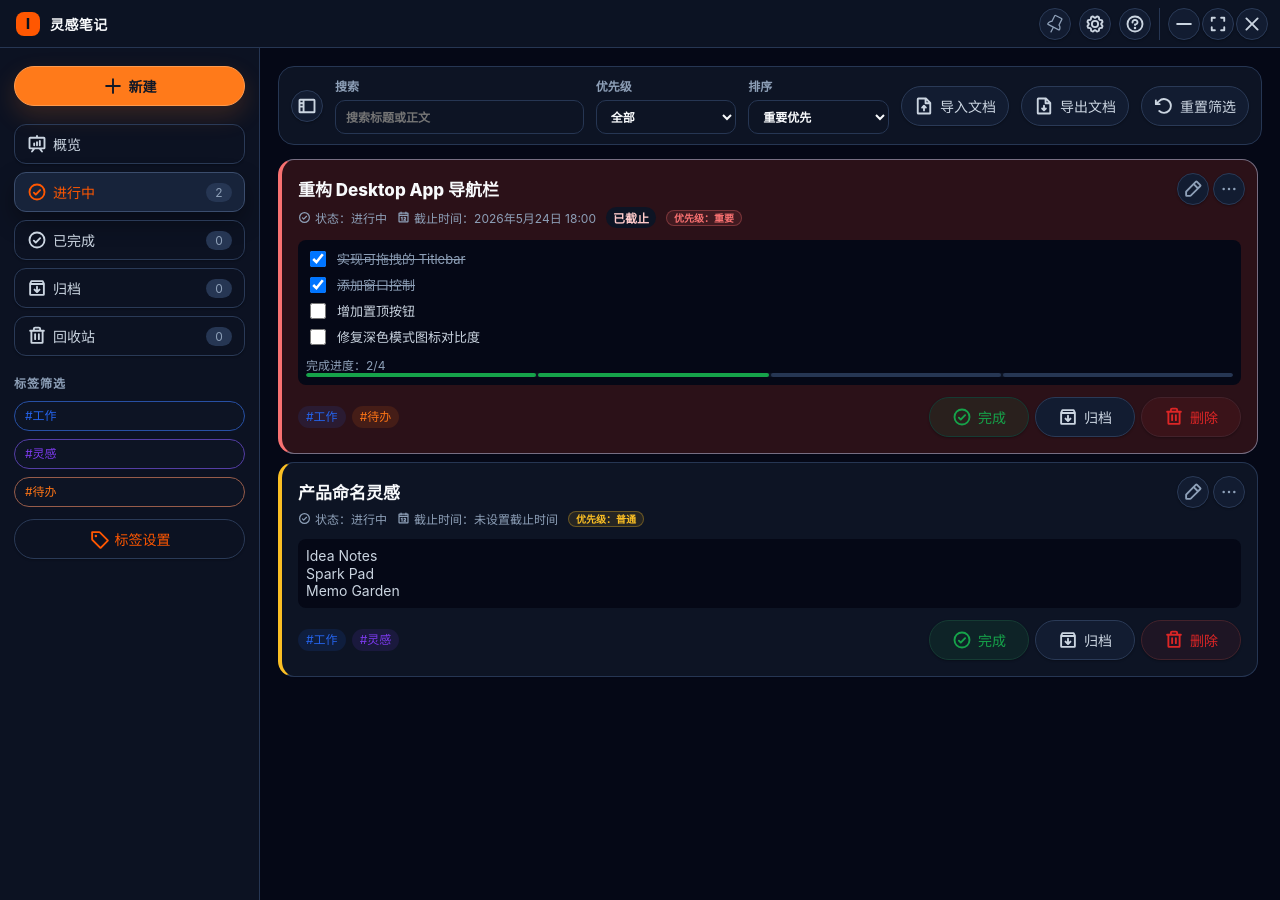
App settings reset › 设置重置系统状态变更成功但本地保存失败时回滚系统状态
Click the button named "设置" at [1095, 24], box [1079,8,1111,40]
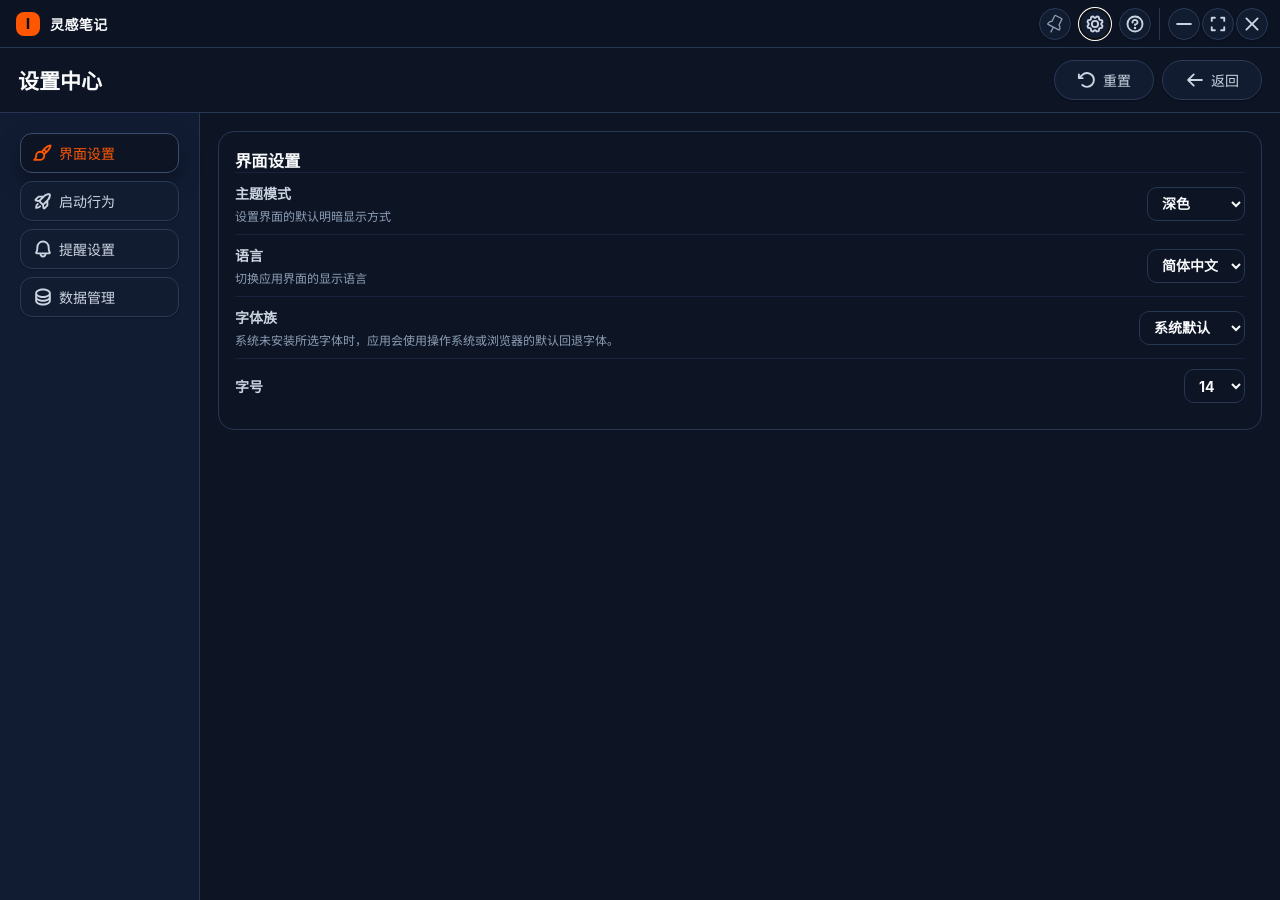
Click the button "重置" at [1104, 80], box [1054,60,1154,100]
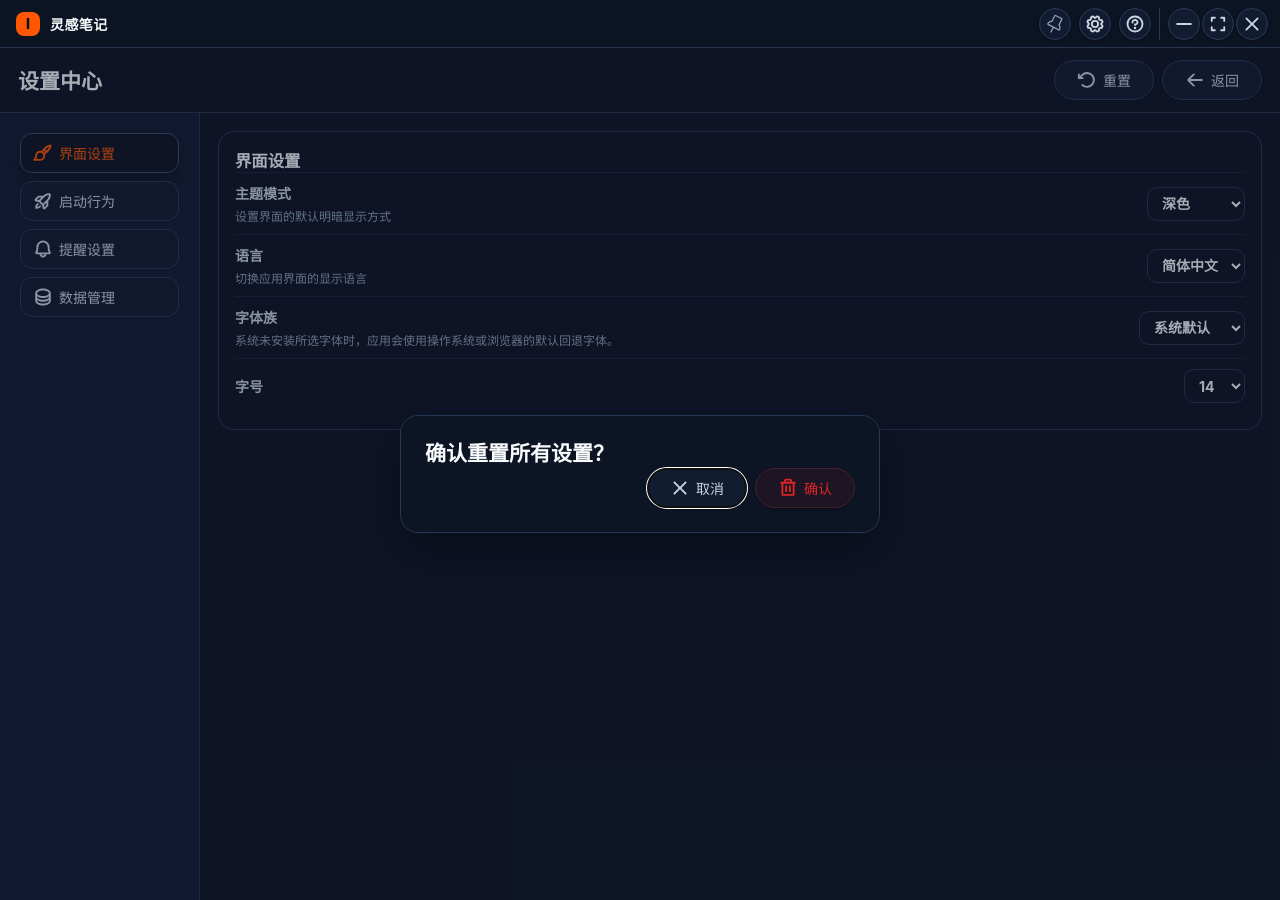
Click the button "确认" at [805, 488], box [755,468,855,508]
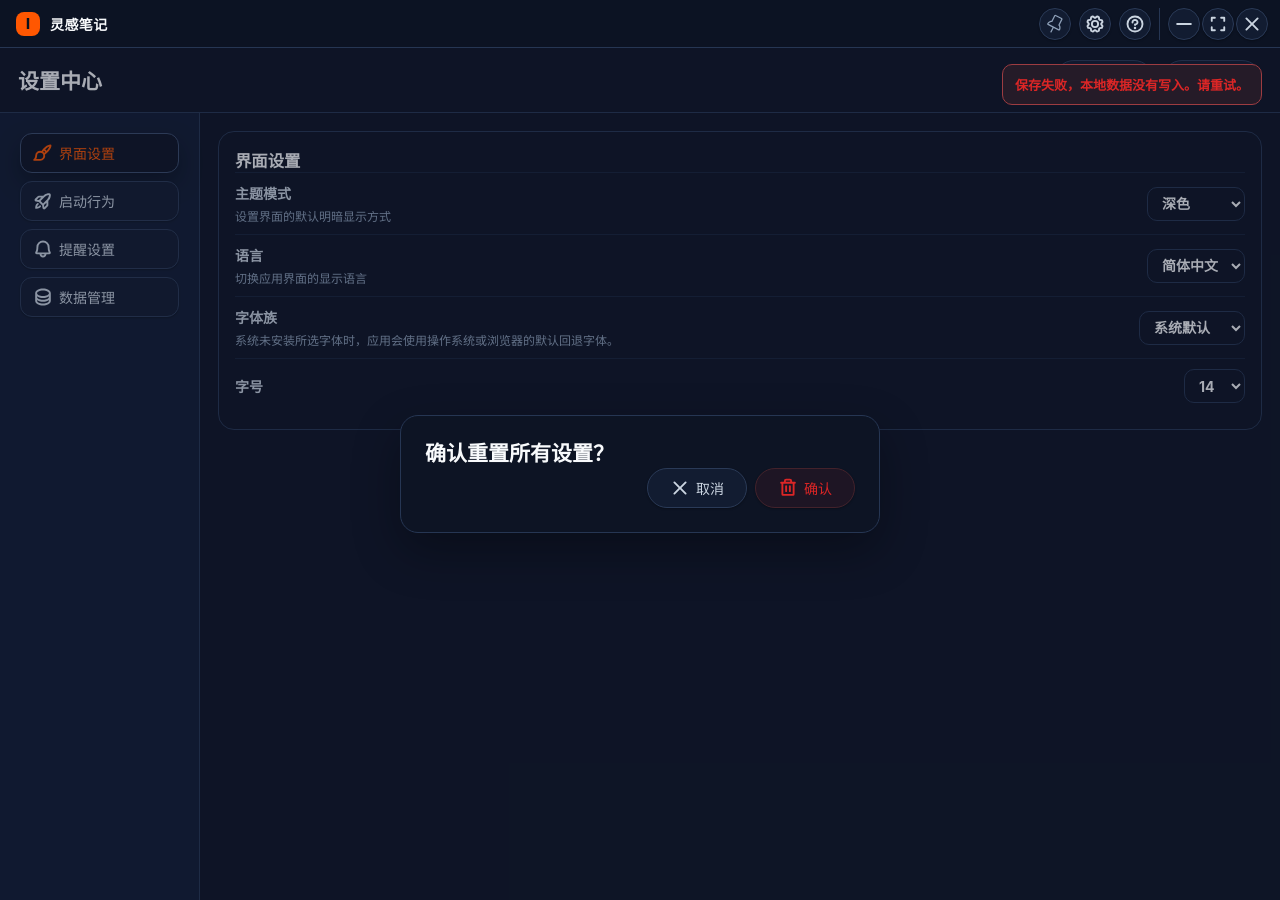
Check: the dialog "确认重置所有设置？" is shown, box [400,415,880,533]
Check: the message reads "保存失败，本地数据没有写入。请重试。", box [1015,77,1249,93]
Click the button "取消" at [697, 488], box [647,468,747,508]
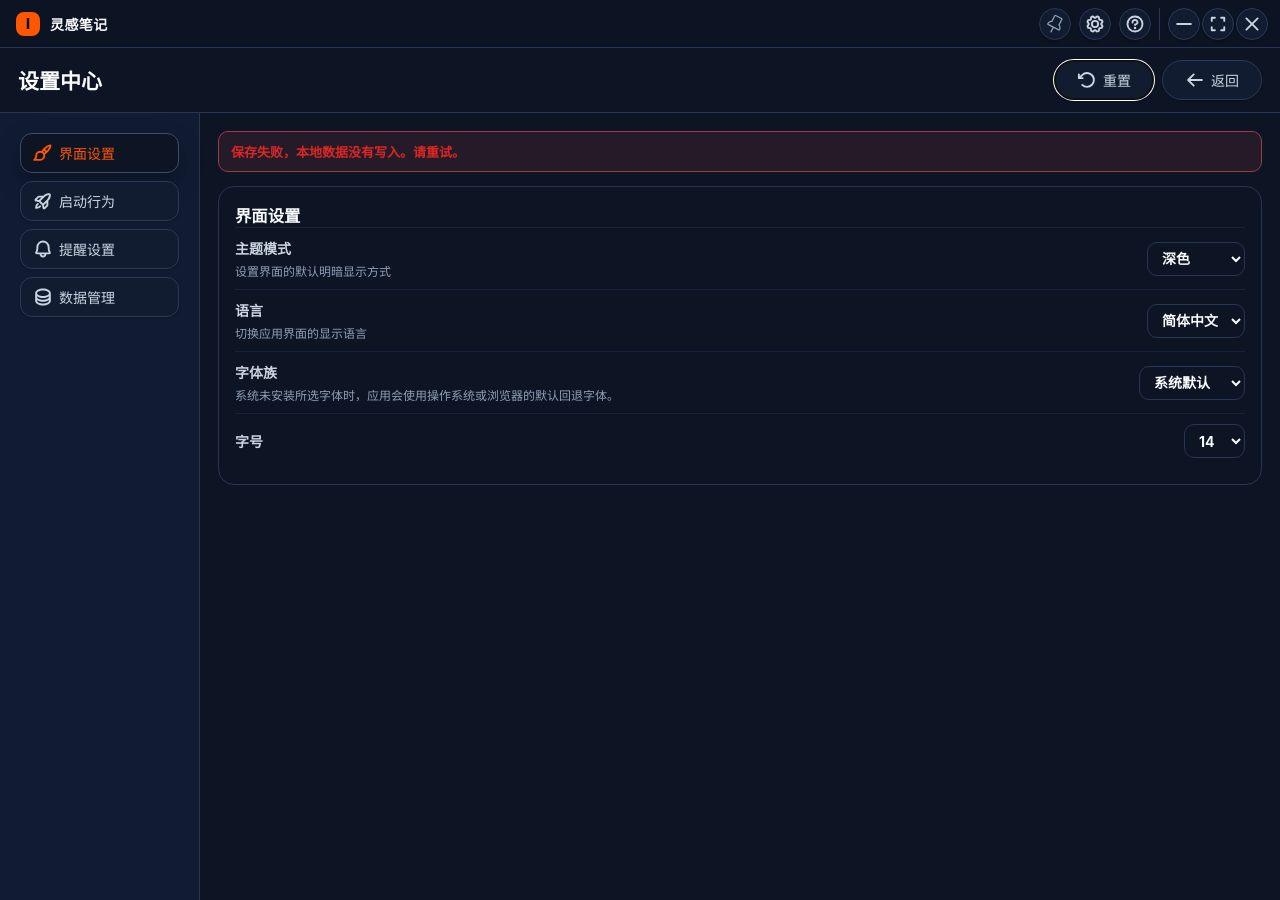
Click the tab "启动行为" at [100, 201], box [20,181,179,221]
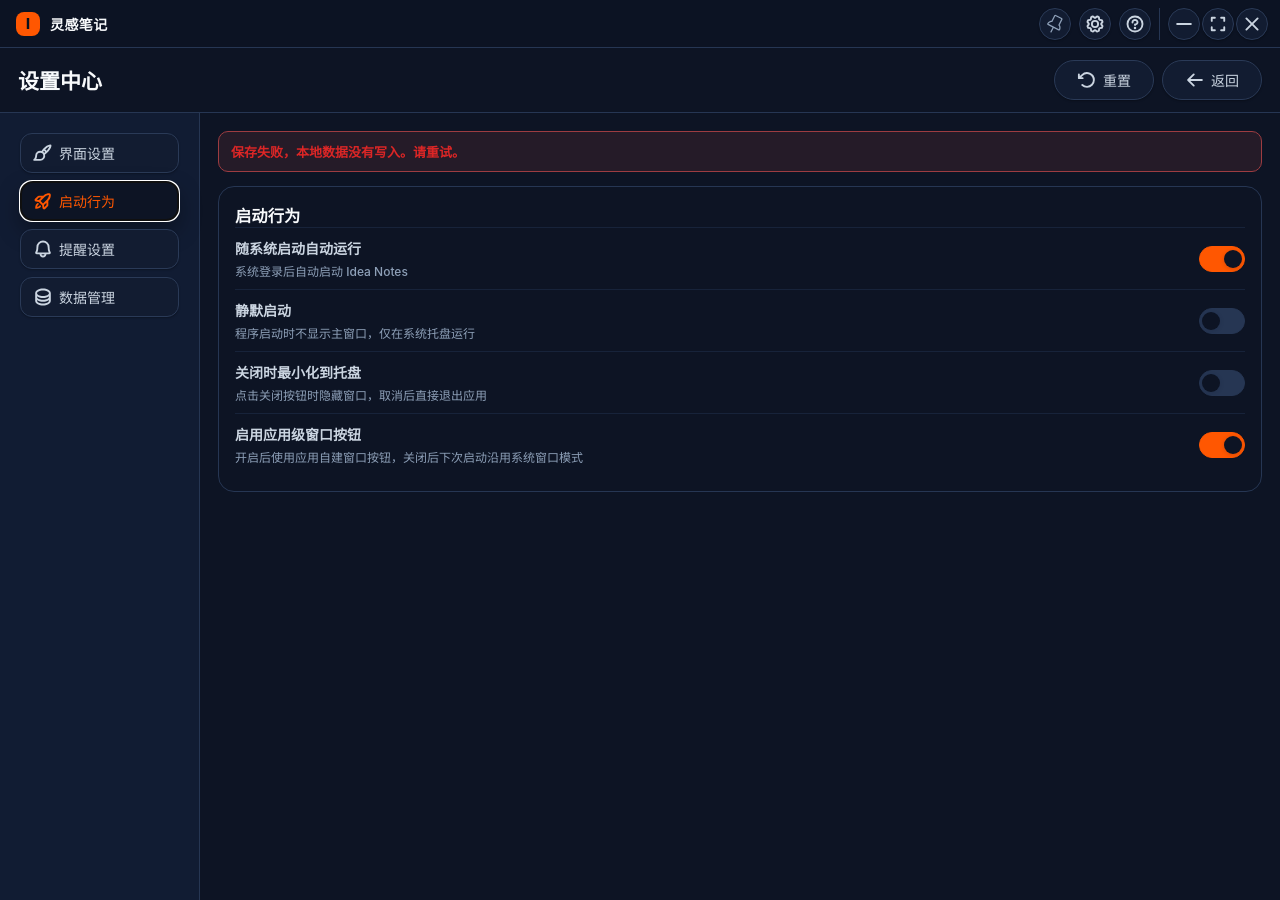
Check: the checkbox named "随系统启动自动运行" is checked, box [1199,246,1245,272]
